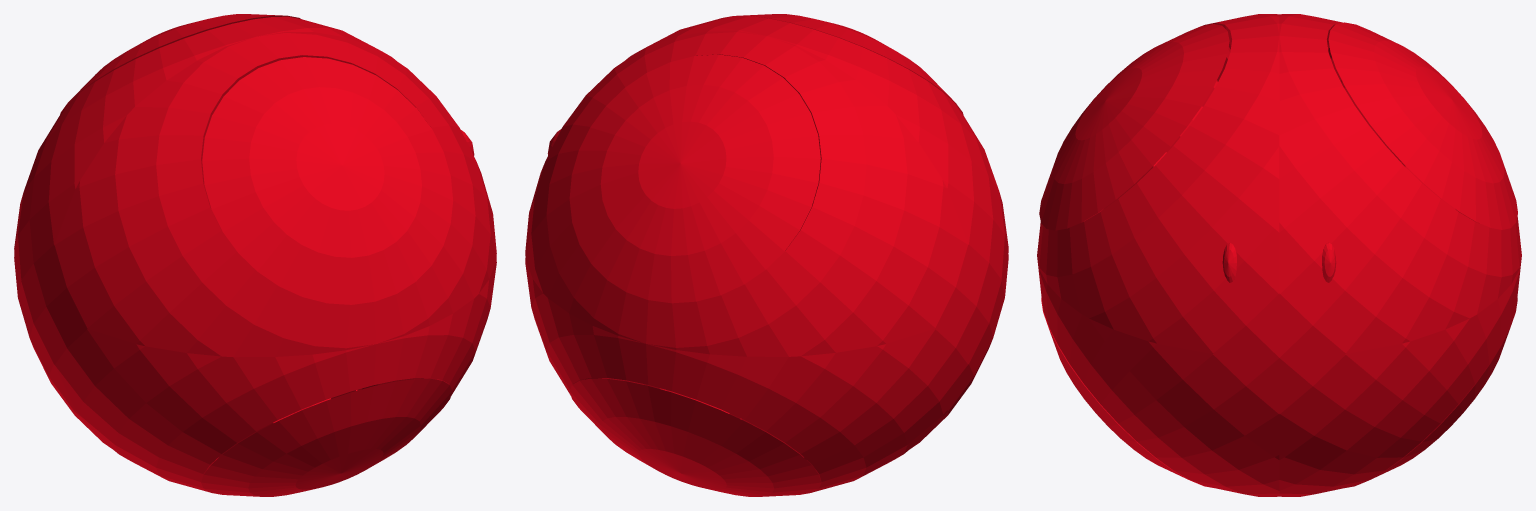
Rendered from haro_gundam_red_v2.dae.
3 renders of one model, left to right at view 1: azimuth 30°, elevation 25°; view 2: azimuth 150°, elevation 25°; view 3: azimuth 270°, elevation 25°, orthographic.
Parts seen in each view (by area): view 1: Haro; view 2: Haro; view 3: Haro.
Boxes of the visible parts, bbox=[...] form: Haro: bbox=[14, 14, 496, 496]; Haro: bbox=[525, 14, 1008, 496]; Haro: bbox=[1037, 14, 1521, 496].
Size of the model in its own units: 0.1 by 0.1 by 0.1.
